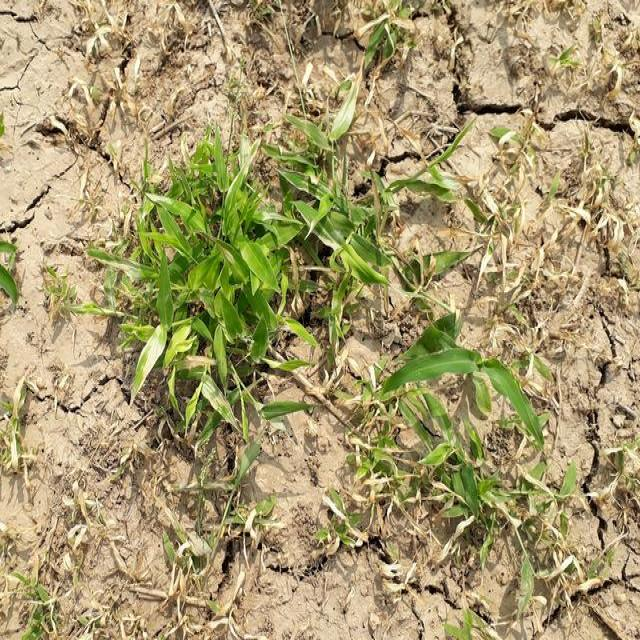weed: (109, 131, 368, 444), (392, 302, 532, 547), (154, 458, 283, 638), (542, 148, 630, 239), (534, 478, 591, 612), (0, 548, 56, 640), (377, 165, 480, 212), (395, 238, 467, 296), (356, 2, 422, 62), (2, 384, 38, 486), (38, 266, 78, 332), (62, 479, 97, 545), (326, 484, 362, 547), (0, 224, 18, 303)
